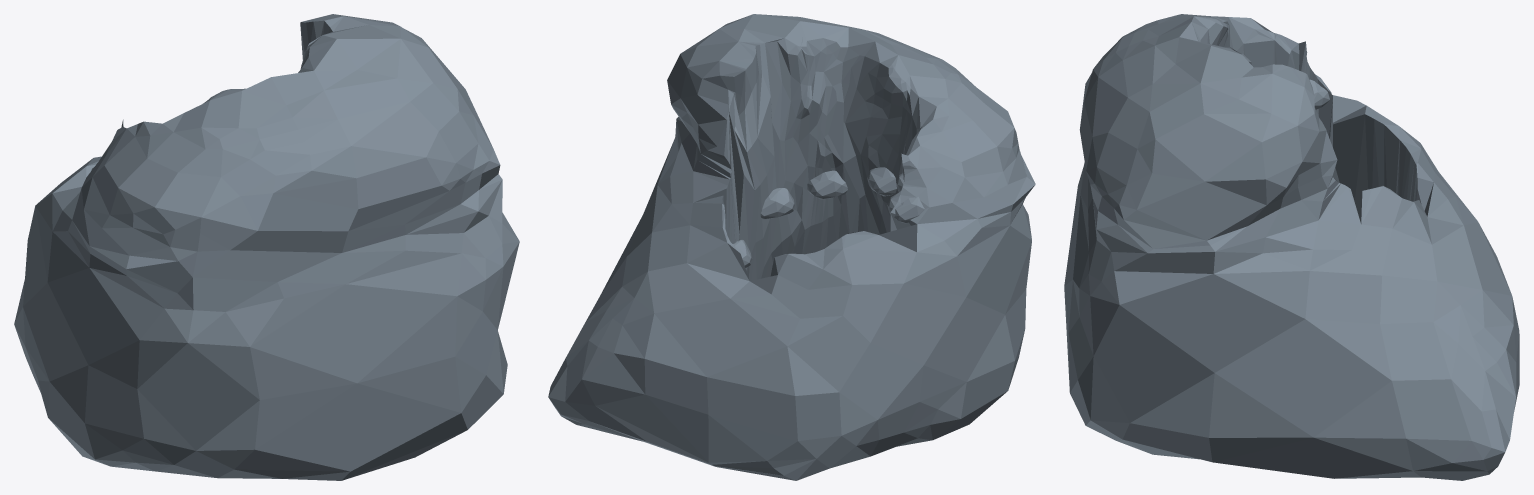
The model's file is Stonebig.obj.
3 renders of one model, left to right at view 1: azimuth 30°, elevation 25°; view 2: azimuth 150°, elevation 25°; view 3: azimuth 270°, elevation 25°, orthographic. The views are drawn at different scales.
Parts seen in each view (by area): view 1: Икосфера.001; view 2: Икосфера.001; view 3: Икосфера.001.
Part boxes in pixels (<box>): Икосфера.001: <box>14,14,519,480</box>; Икосфера.001: <box>548,14,1035,480</box>; Икосфера.001: <box>1064,14,1519,480</box>.
Size of the model in its own units: 11.58 by 10.72 by 11.83.
